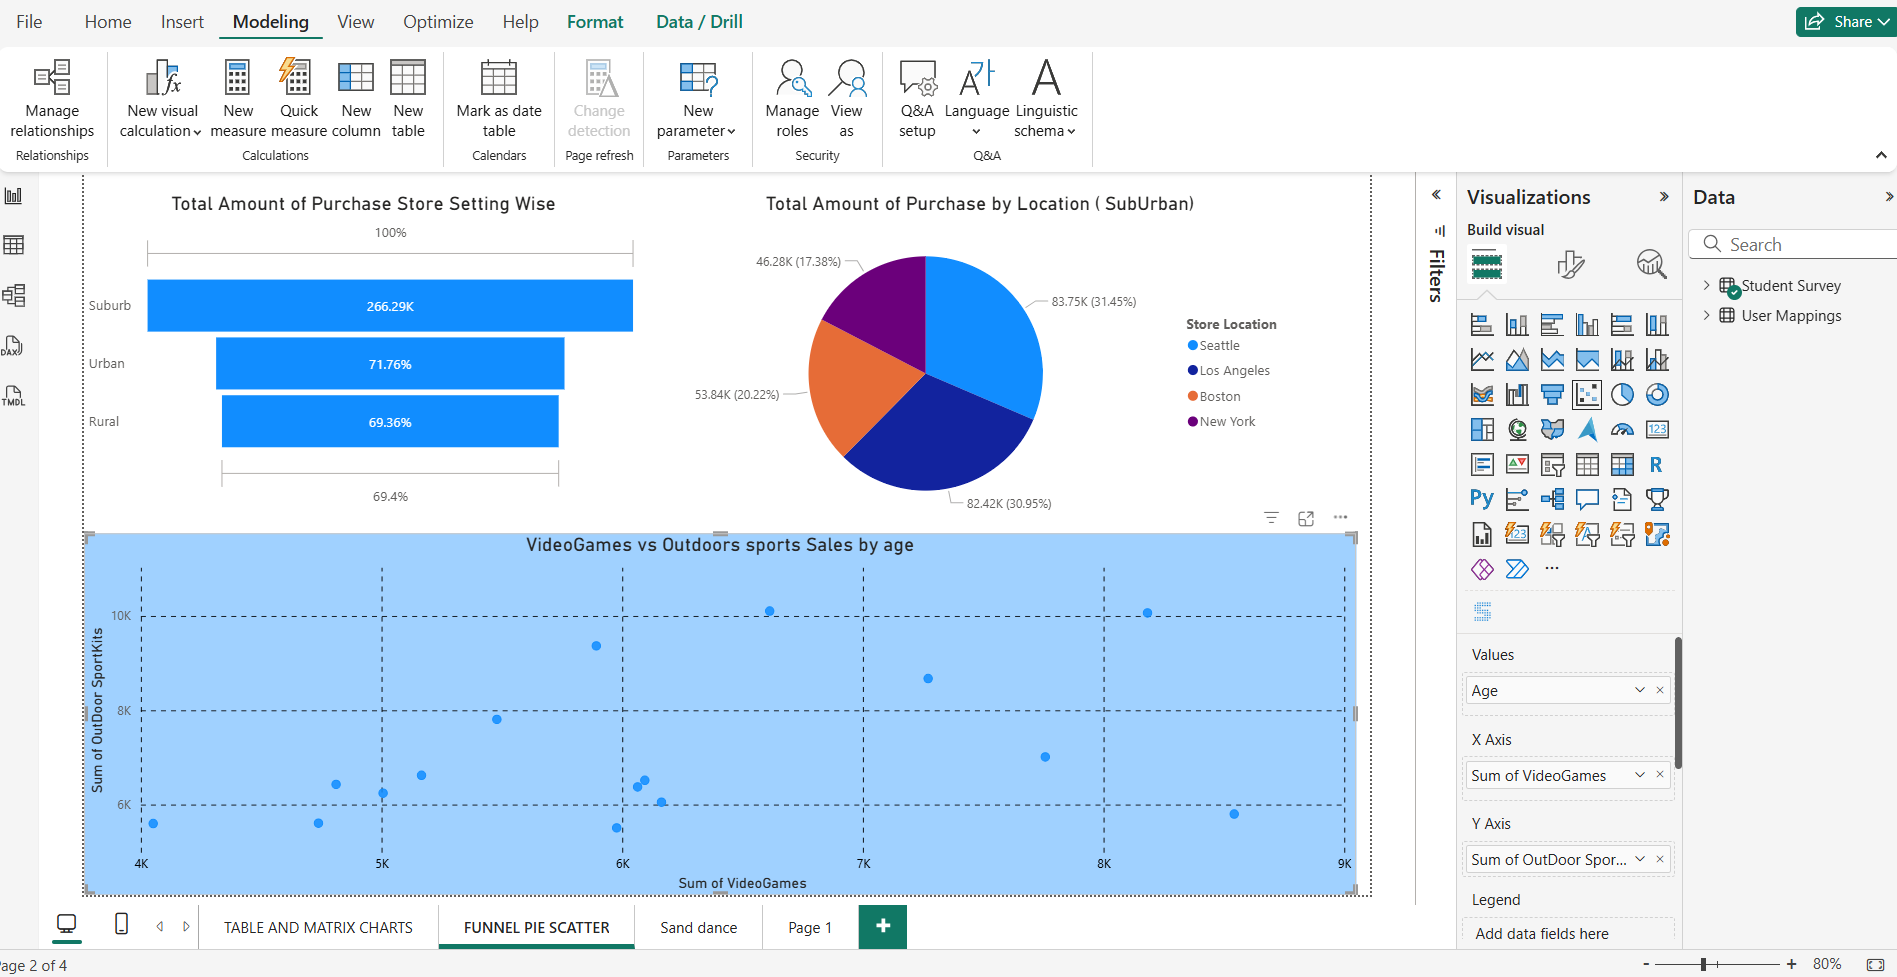

The page's visual inventory and layout, read from the dashboard file:
{"tool":"powerbi","page":{"name":"FUNNEL PIE SCATTER","canvas":[1280,720],"ordinal":1},"visuals":[{"type":"funnel","title":"Total Amount of Purchase Store Setting Wise","fields":{"Y":["Sum(Student Survey.Total Amount of Purchases)"],"Category":["Student Survey.Store Setting"]},"box":[0,19.7,556.6,320],"z":0},{"type":"pieChart","title":"Total Amount of Purchase by Location ( SubUrban)","fields":{"Category":["Student Survey.Store Location"],"Y":["Sum(Student Survey.Total Amount of Purchases)"]},"box":[572.9,20,635.7,340],"z":1000},{"type":"scatterChart","title":"VideoGames vs Outdoors sports Sales by age","fields":{"X":["Sum(Student Survey.VideoGames)"],"Y":["Sum(Student Survey.OutDoor SportKits)"],"Category":["Student Survey.Age"]},"box":[0,359.4,1266.4,360.9],"z":2000}]}

Visuals, with their boxes on the page's 1280x720 design canvas (x1, y1, x2, y2). These are canvas units, not pixel positions in the 1897x977 screenshot, which may show the page scaled, cropped or inside an application window:
"Total Amount of Purchase Store Setting Wise" funnel: (0, 20, 557, 340)
"Total Amount of Purchase by Location ( SubUrban)" pieChart: (573, 20, 1209, 360)
"VideoGames vs Outdoors sports Sales by age" scatterChart: (0, 359, 1266, 720)
